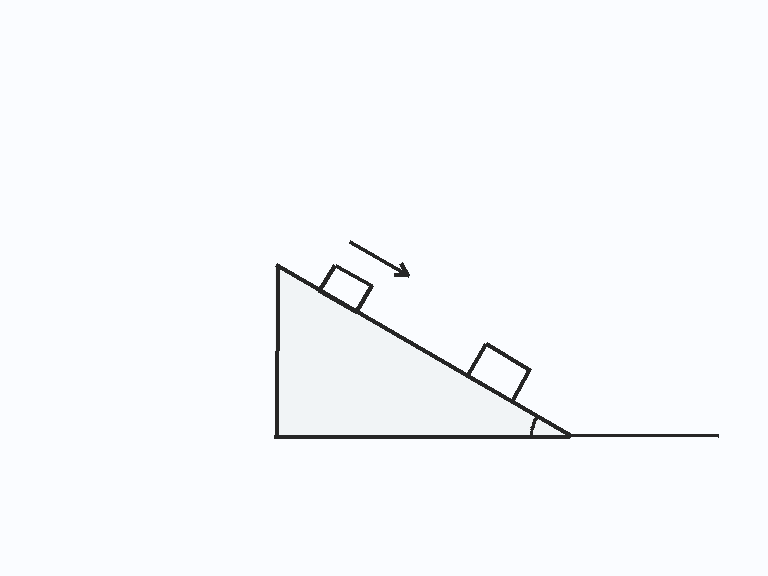block: (465, 341, 532, 403), (318, 262, 373, 314)
ramp: (274, 264, 573, 438)
